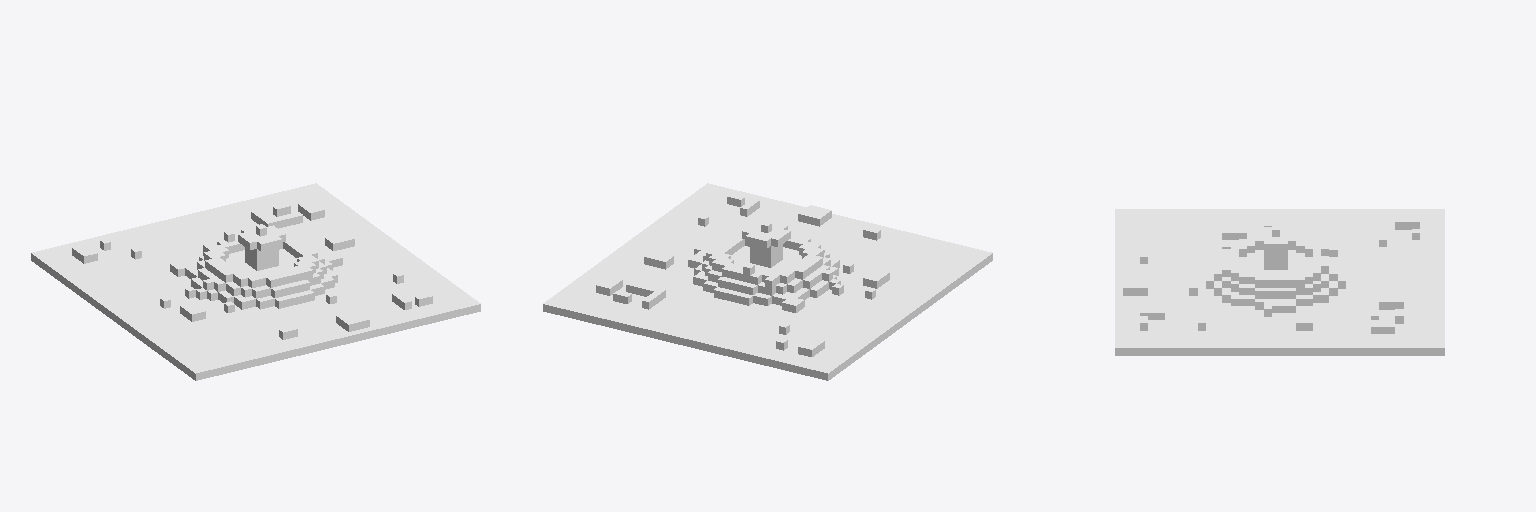
File: floor7.obj
3 views of the same model, side by side, from view 1: azimuth 30°, elevation 25°; view 2: azimuth 150°, elevation 25°; view 3: azimuth 270°, elevation 25° (orthographic).
Parts seen in each view (by area): view 1: floor7; view 2: floor7; view 3: floor7.
Part boxes in pixels (bbox=[...]): floor7: bbox=[31, 183, 480, 380]; floor7: bbox=[543, 183, 992, 380]; floor7: bbox=[1115, 209, 1444, 355].
Bounding box in the file's own units: 40 × 8 × 40.